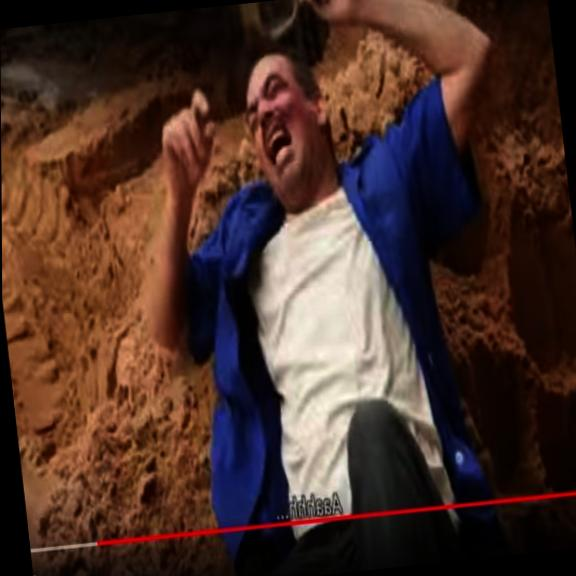no_safety_vest: (173, 148, 516, 576)
